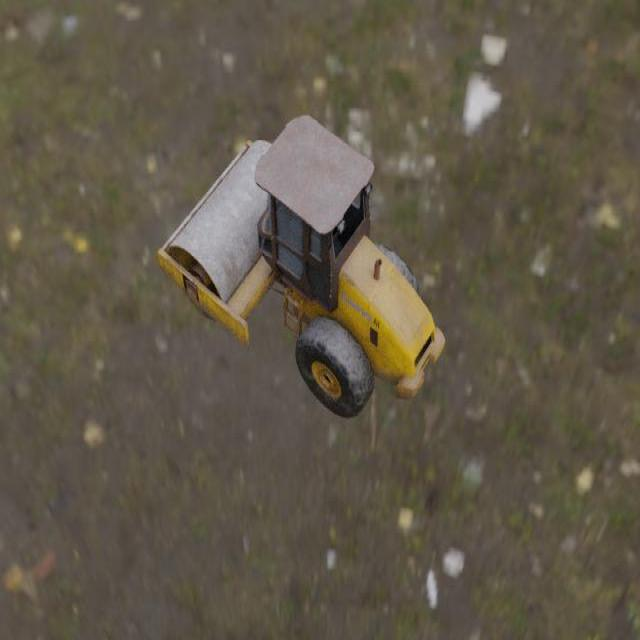Roller: (156, 113, 445, 419)
